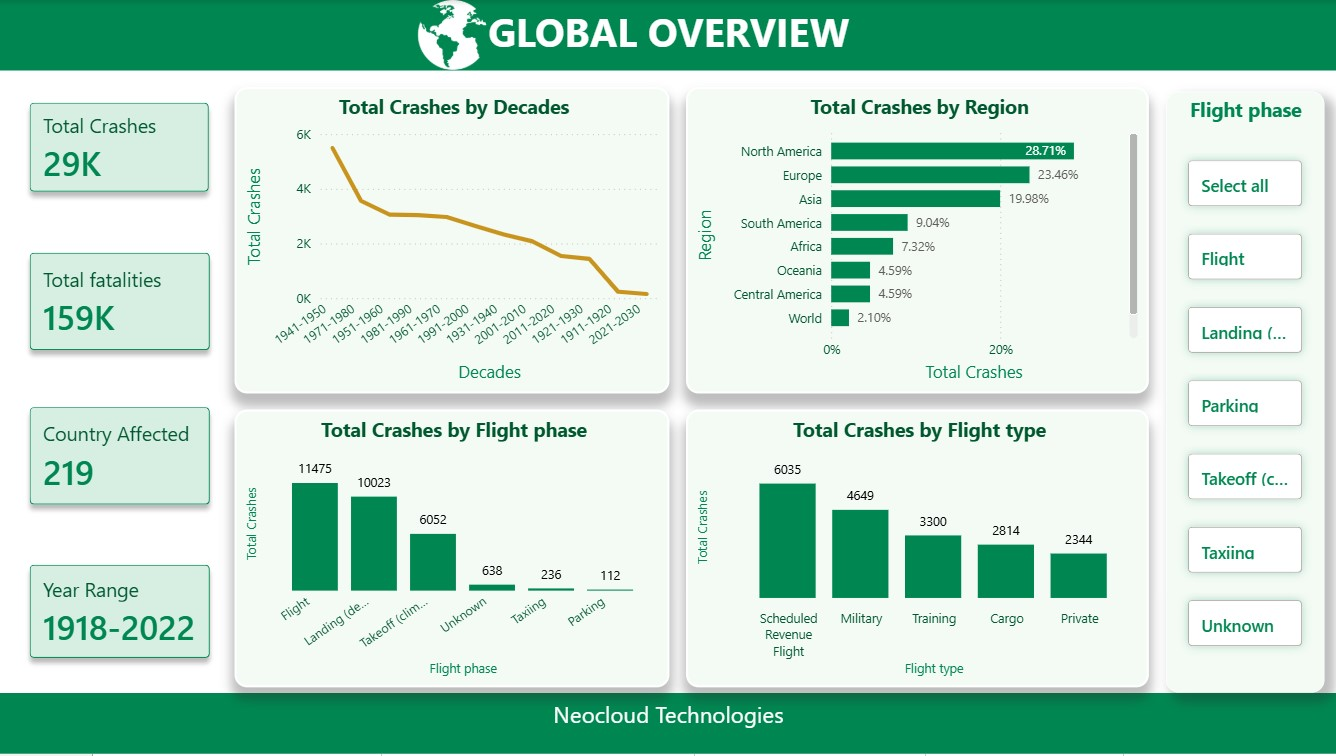

The page's visual inventory and layout, read from the dashboard file:
{"tool":"powerbi","page":{"name":"Global Overview Dashboard","canvas":[1280,720],"ordinal":0},"visuals":[{"type":"textbox","box":[0,0,1279.1,67.3],"z":0},{"type":"textbox","box":[0,661.9,1278.5,58.3],"z":1000},{"type":"cardVisual","fields":{"Data":["Sum(Worksheet.Total fatalities)"]},"box":[0,211.6,230.6,151.1],"z":2000},{"type":"cardVisual","fields":{"Data":["Worksheet.Year Range"]},"box":[0,510.6,230.6,147.9],"z":3000},{"type":"cardVisual","fields":{"Data":["Count(Worksheet.Country)"]},"box":[0,359.5,230.6,151.1],"z":4000},{"type":"cardVisual","fields":{"Data":["Worksheet.Total Crashes"]},"box":[0,68.4,229,143.2],"z":5000},{"type":"lineChart","fields":{"Category":["Worksheet.Decades"],"Y":["Worksheet.Total Crashes"]},"box":[224.3,82.7,415.1,292.7],"z":6000},{"type":"barChart","fields":{"Category":["Worksheet.Region"],"Y":["Worksheet.Total Crashes"]},"box":[655.3,82.7,442.2,292.7],"z":7000},{"type":"clusteredColumnChart","fields":{"Category":["Worksheet.Flight phase"],"Y":["Worksheet.Total Crashes"]},"box":[224.3,391.3,415.1,265.6],"z":8000},{"type":"columnChart","fields":{"Category":["Worksheet.Flight type"],"Y":["Worksheet.Total Crashes"]},"box":[655.3,391.3,442.2,265.6],"z":9000},{"type":"advancedSlicerVisual","fields":{"Values":["Worksheet.Flight phase"]},"box":[1115,87.5,151.1,574.2],"z":10000},{"type":"image","box":[396.1,0,71.6,66.8],"z":11000}]}

Visuals, with their boxes in screenshot pixels (x1, y1, x2, y2), scaled from the page's 1280x720 canvas onto the 1336x756 screenshot:
textbox: <box>0,0,1335,71</box>
textbox: <box>0,695,1334,755</box>
cardVisual - Sum(Worksheet.Total fatalities): <box>0,222,241,381</box>
cardVisual - Worksheet.Year Range: <box>0,536,241,691</box>
cardVisual - Count(Worksheet.Country): <box>0,377,241,536</box>
cardVisual - Worksheet.Total Crashes: <box>0,72,239,222</box>
lineChart - Worksheet.Decades x Worksheet.Total Crashes: <box>234,87,667,394</box>
barChart - Worksheet.Region x Worksheet.Total Crashes: <box>684,87,1146,394</box>
clusteredColumnChart - Worksheet.Flight phase x Worksheet.Total Crashes: <box>234,411,667,690</box>
columnChart - Worksheet.Flight type x Worksheet.Total Crashes: <box>684,411,1146,690</box>
advancedSlicerVisual - Worksheet.Flight phase: <box>1164,92,1321,695</box>
image: <box>413,0,488,70</box>
